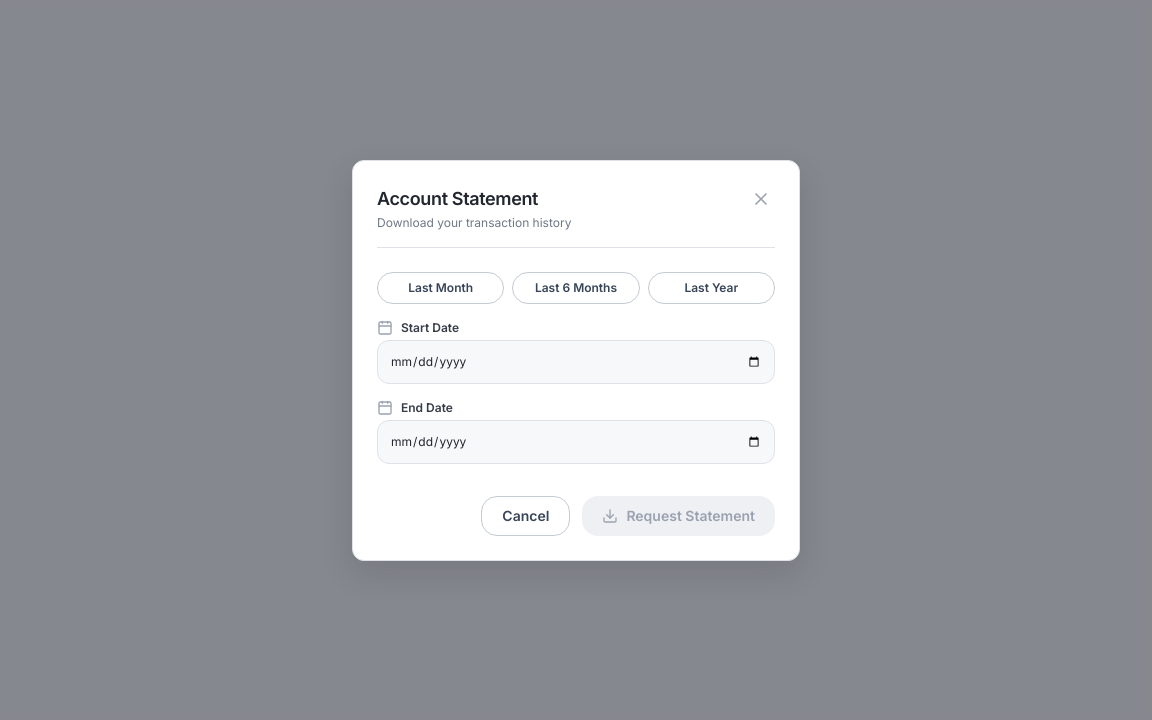
Test: AccountStatementModal › quick select buttons populate dates
This screenshot has width=1152, height=720.
Click the button "Last Month": {"x": 441, "y": 288} 377,272 -> 504,304
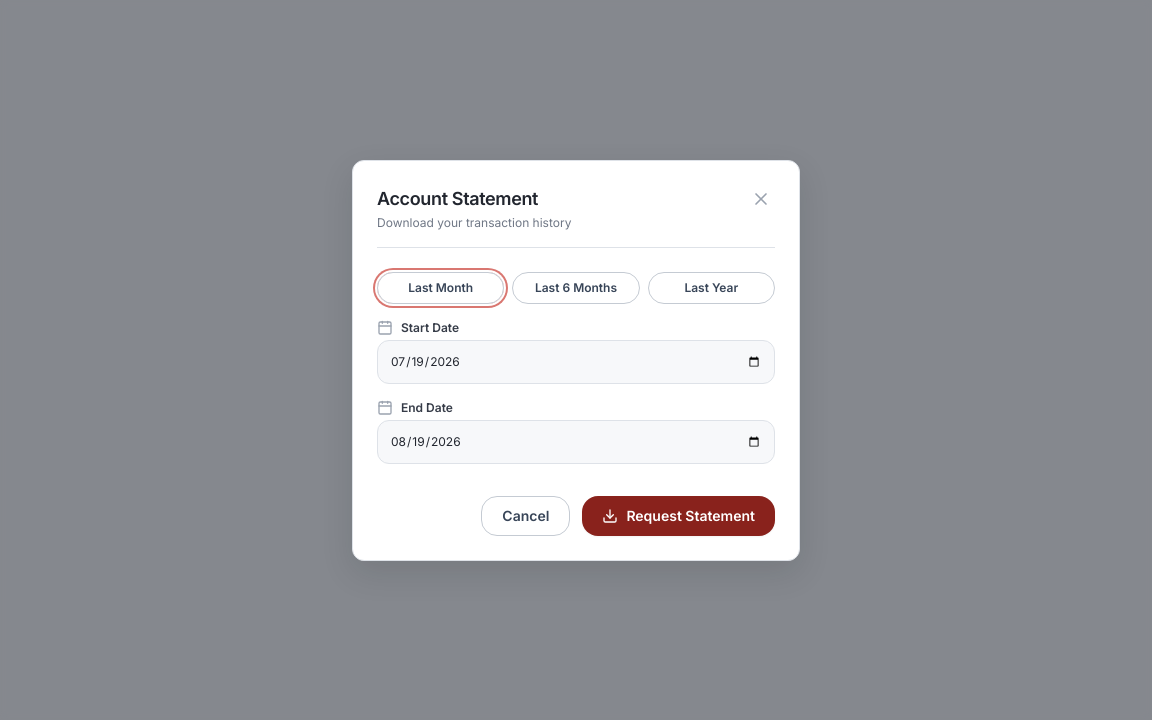
Expected: the date field below "Start Date" is not empty, 377,340 -> 775,384
Expected: the date field below "End Date" is not empty, 377,420 -> 775,464
